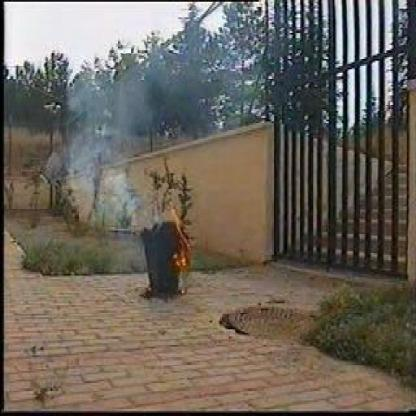-: (78, 87, 134, 227)
foggia-v2-map80-epoch100 - v1 4323: (172, 219, 196, 270)
